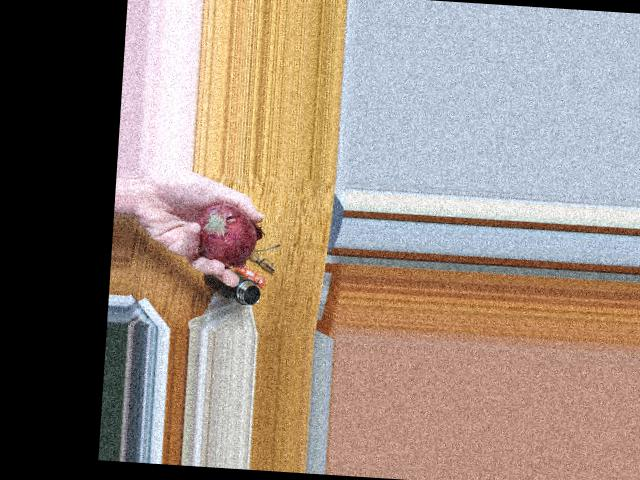onion: (193, 200, 252, 266)
